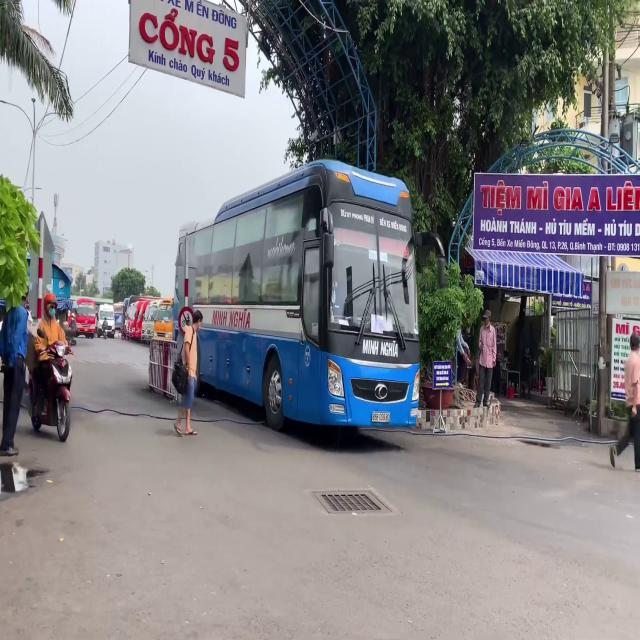bien_trang: (372, 412, 391, 423)
